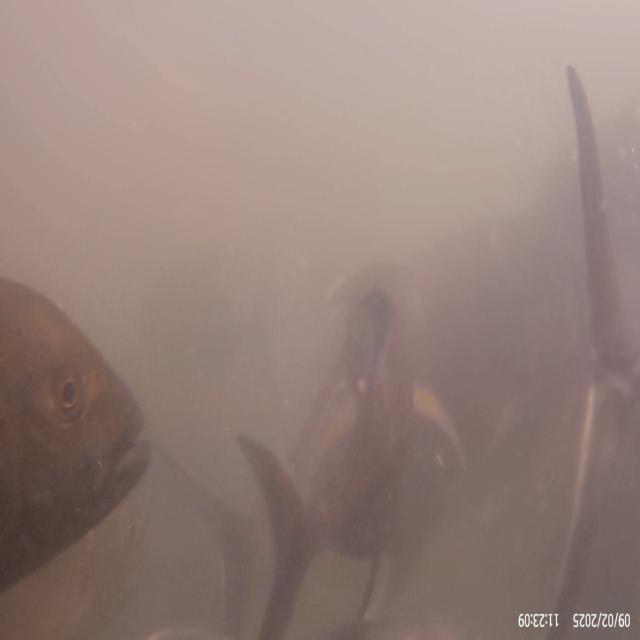ikan: (235, 280, 464, 637), (551, 62, 639, 628), (0, 274, 152, 592)
